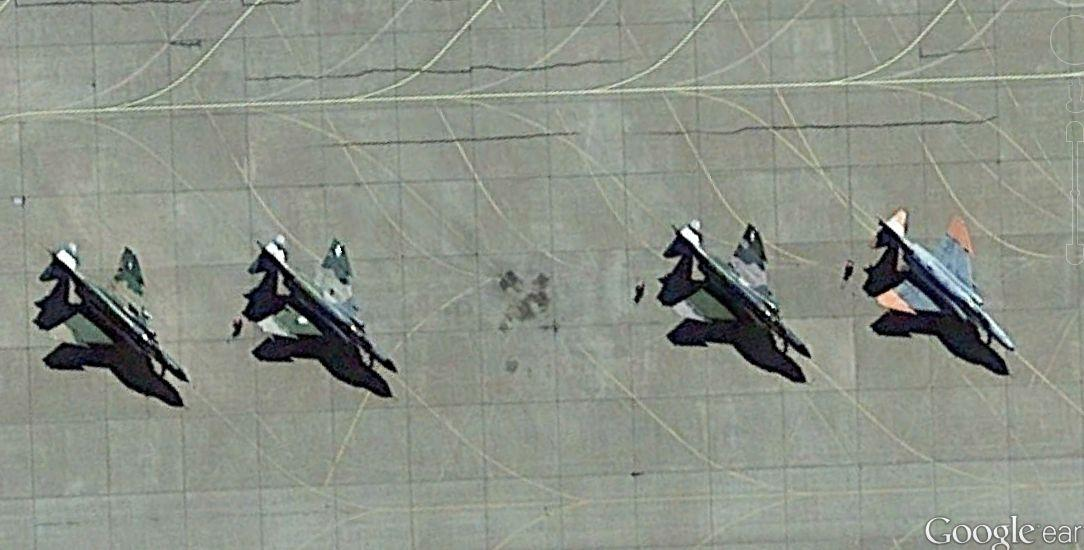plane: (236, 230, 404, 382), (866, 206, 1025, 357), (658, 218, 821, 365), (29, 235, 188, 385)
